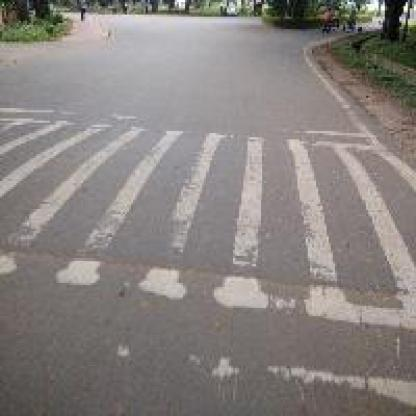Speed Bump: (0, 108, 412, 406)
